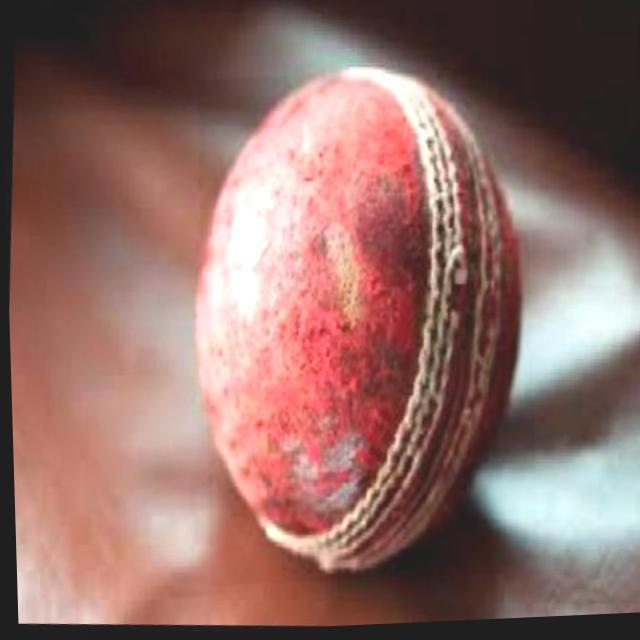-: (196, 70, 535, 587)
